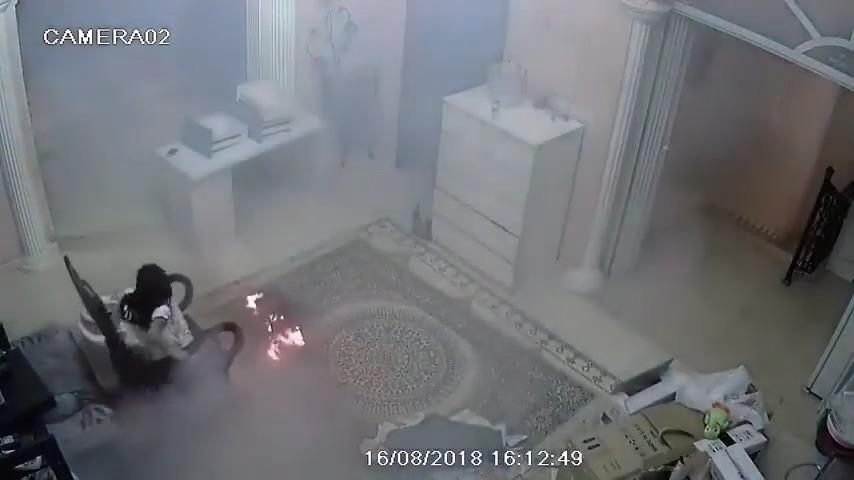fire: (267, 315, 305, 360), (247, 292, 263, 309)
